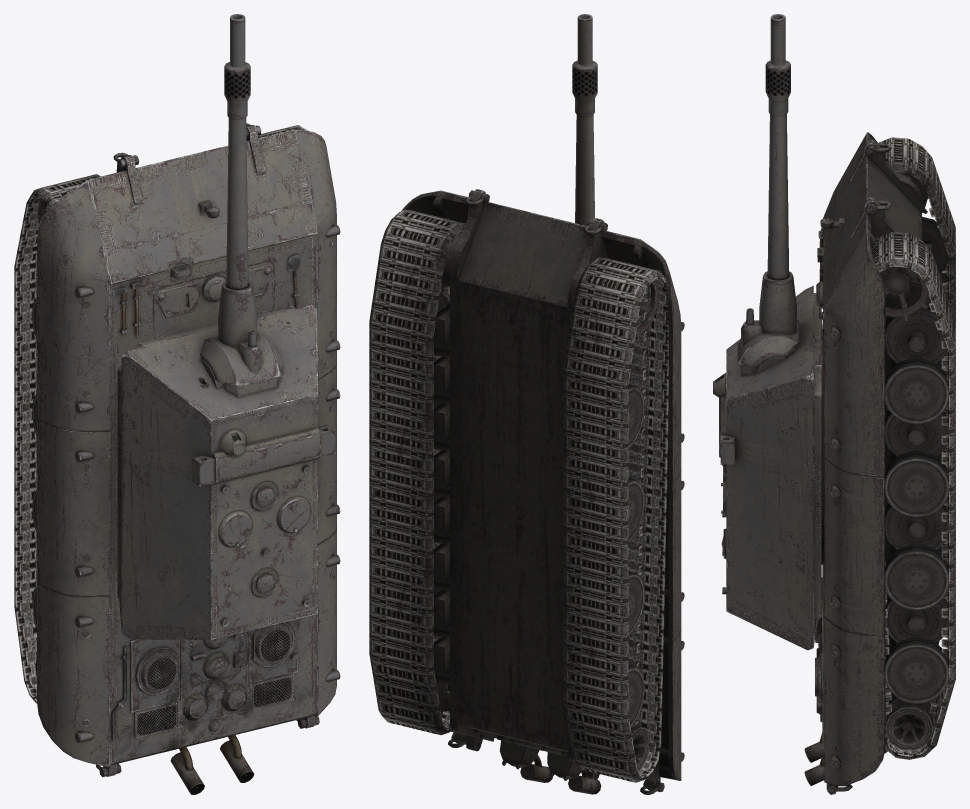
The picture shows the model from 3 angles, left to right: view 1: azimuth 30°, elevation 25°; view 2: azimuth 150°, elevation 25°; view 3: azimuth 270°, elevation 25°; orthographic projection. The views are drawn at different scales.
Visible parts, largest first — view 1: hull, turret_02, chassis_track_L, gun_06, gun_06_mask, gun_04_mask, gun_04; view 2: hull, chassis_track_L, chassis_track_R, gun_06, chassis_wheel_L_05, chassis_wheel_L_07, chassis_wheel_L_03, chassis_wheel_L_09, gun_04, chassis_wheel_L_10, chassis_wheel_L_01; view 3: hull, turret_02, chassis_track_R, gun_06, gun_04_mask, chassis_wheel_R_05, chassis_wheel_R_03, chassis_wheel_R_07, chassis_wheel_R_09, chassis_track_L, chassis_wheel_R_02, chassis_wheel_R_10 (+7 smaller).
Part boxes in pixels (box(x1,y1,x2,y2)): hull: box(37, 123, 340, 794); turret_02: box(117, 304, 335, 639); chassis_track_L: box(14, 174, 100, 703); gun_06: box(224, 62, 250, 289); gun_06_mask: box(200, 281, 279, 387); gun_04_mask: box(206, 281, 283, 387); gun_04: box(230, 14, 245, 67); hull: box(401, 189, 684, 794); chassis_track_L: box(564, 257, 668, 782); chassis_track_R: box(369, 210, 465, 735); gun_06: box(572, 60, 597, 225); chassis_wheel_L_05: box(628, 478, 645, 542); chassis_wheel_L_07: box(628, 571, 645, 636); chassis_wheel_L_03: box(628, 384, 645, 449); chassis_wheel_L_09: box(628, 665, 645, 727); gun_04: box(577, 14, 592, 65); chassis_wheel_L_10: box(630, 725, 649, 771); chassis_wheel_L_01: box(635, 280, 658, 340); hull: box(804, 132, 931, 794); turret_02: box(713, 285, 824, 650); chassis_track_R: box(871, 232, 955, 759); gun_06: box(765, 60, 790, 280); gun_04_mask: box(738, 274, 798, 367); chassis_wheel_R_05: box(885, 450, 948, 517); chassis_wheel_R_03: box(885, 357, 948, 424); chassis_wheel_R_07: box(885, 543, 948, 611); chassis_wheel_R_09: box(885, 637, 948, 704); chassis_track_L: box(877, 137, 955, 644); chassis_wheel_R_02: box(885, 303, 947, 363); chassis_wheel_R_10: box(885, 696, 933, 750).
Size of the model in its own units: 4.48 by 11.52 by 3.35.
2 materials, 2 textured.
